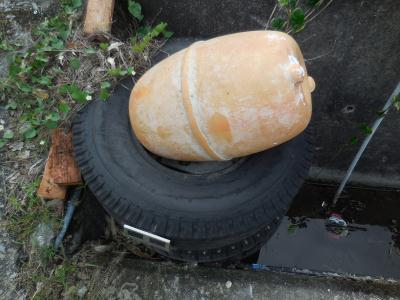bottle: (126, 28, 326, 165)
tire: (68, 73, 320, 251)
